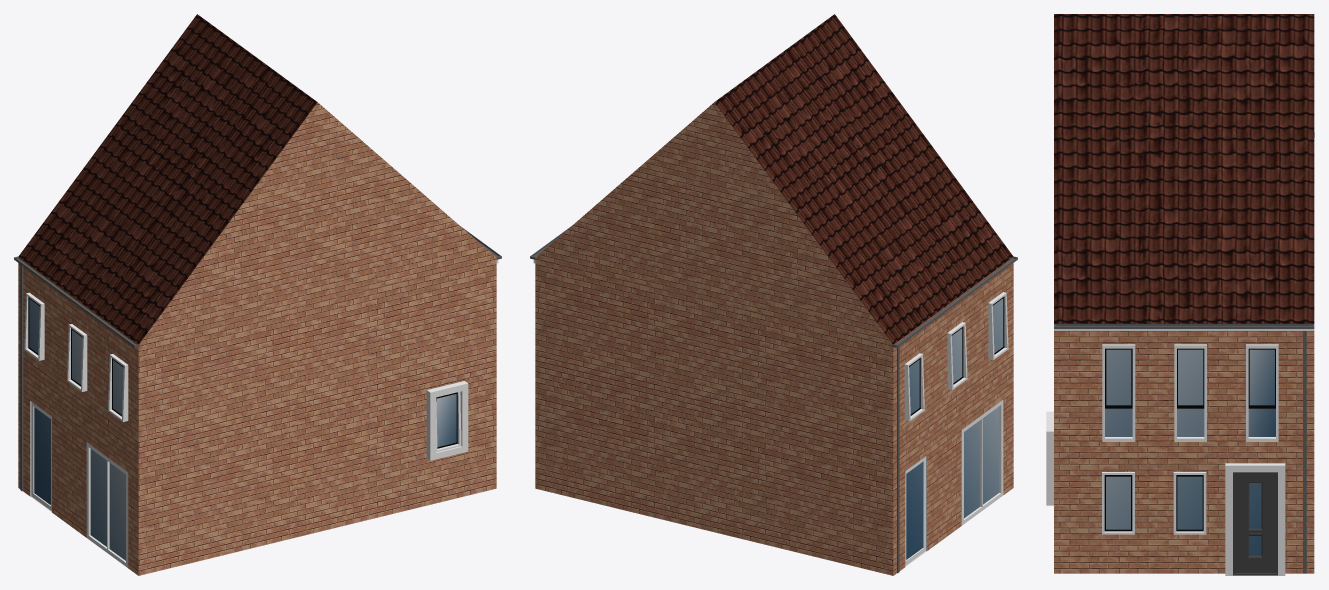
File: Woning_39723_A1Z1.fbx
The picture shows the model from 3 angles, left to right: view 1: azimuth 30°, elevation 25°; view 2: azimuth 150°, elevation 25°; view 3: azimuth 270°, elevation 25°; orthographic projection. The views are drawn at different scales.
Parts seen in each view (by area): view 1: Woning_39723_A1Z1; view 2: Woning_39723_A1Z1; view 3: Woning_39723_A1Z1.
Boxes of the visible parts, x1,y1,x2,y2 form: Woning_39723_A1Z1: (14, 14, 501, 575); Woning_39723_A1Z1: (530, 14, 1017, 575); Woning_39723_A1Z1: (1046, 14, 1314, 575).
Bounding box in the file's own units: 9.59 × 10.7 × 5.59.
